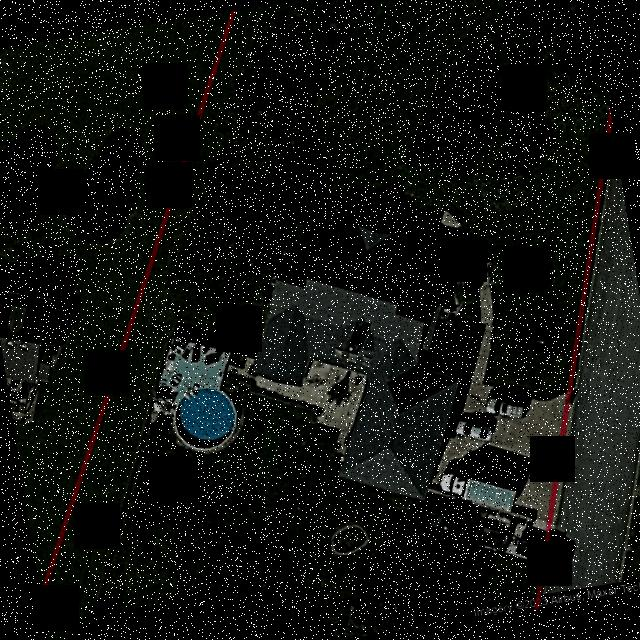Driveway: (429, 236, 565, 527)
House: (249, 207, 460, 500)
Other: (175, 387, 234, 449), (329, 522, 369, 555)
